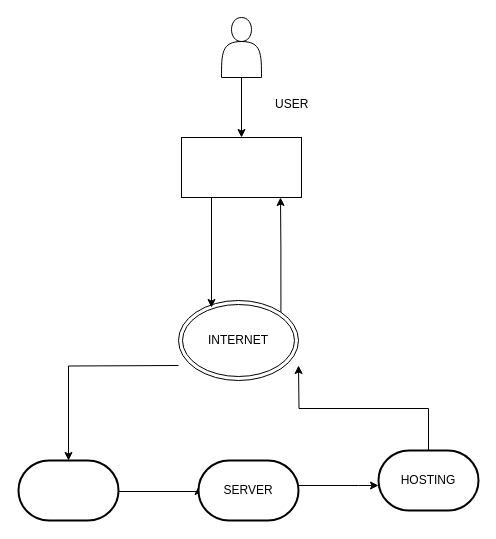
The diagram is 496 pixels wide and 539 high, and some of its shapes have lost their labels. The centre of each missing label's shape, as x and y in pixels:
browser: [241,167]
DNS: [68,490]
